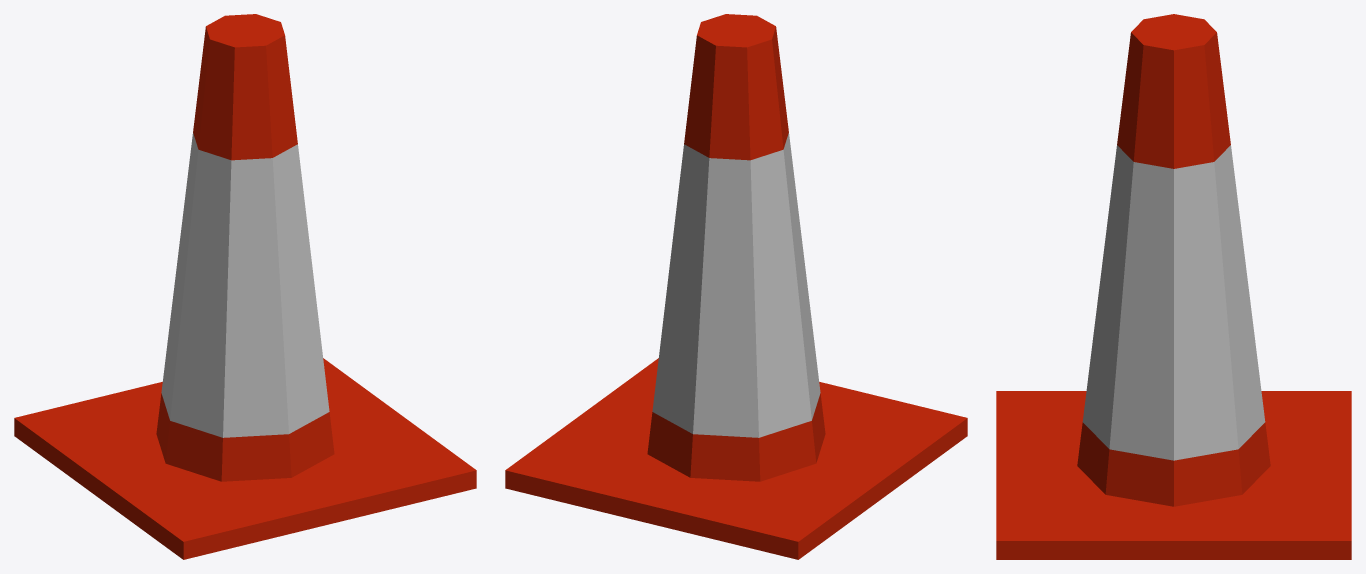
File: WitchesHat.FBX
3 renders of one model, left to right at view 1: azimuth 30°, elevation 25°; view 2: azimuth 150°, elevation 25°; view 3: azimuth 270°, elevation 25°, orthographic. The views are drawn at different scales.
Visible parts, largest first — view 1: Cube.011; view 2: Cube.011; view 3: Cube.011.
Boxes of the visible parts, x1,y1,x2,y2 form: Cube.011: (14,14,476,559); Cube.011: (505,14,967,559); Cube.011: (996,14,1351,559).
Bounding box in the file's own units: 15.48 × 21.76 × 15.48.
